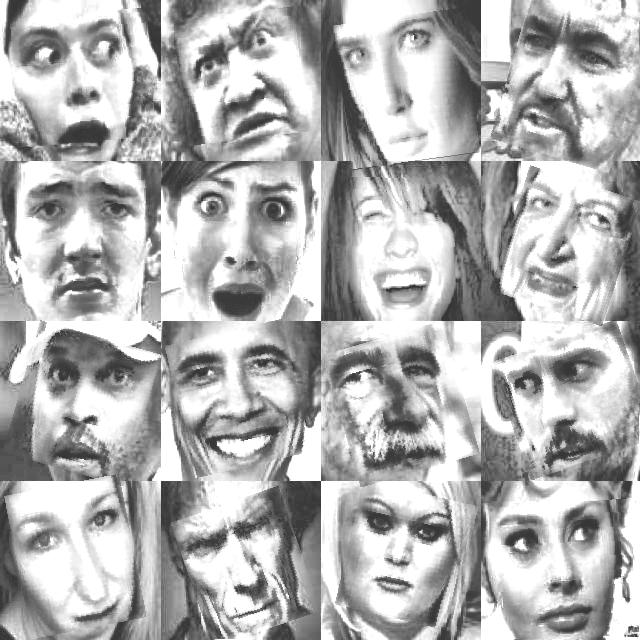angry: (499, 0, 640, 166), (11, 328, 153, 479), (498, 328, 640, 471), (180, 493, 312, 640), (342, 486, 472, 626), (176, 9, 306, 142)
fear: (13, 10, 153, 145), (188, 166, 306, 315)
happy: (498, 172, 634, 318), (172, 325, 306, 473), (341, 178, 478, 314)
neutral: (337, 12, 476, 166), (332, 328, 472, 480), (11, 479, 140, 635), (501, 500, 640, 640)
sad: (17, 174, 145, 312)
